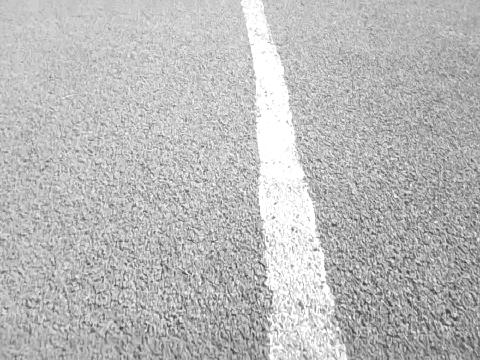Lines: (239, 0, 349, 360)
